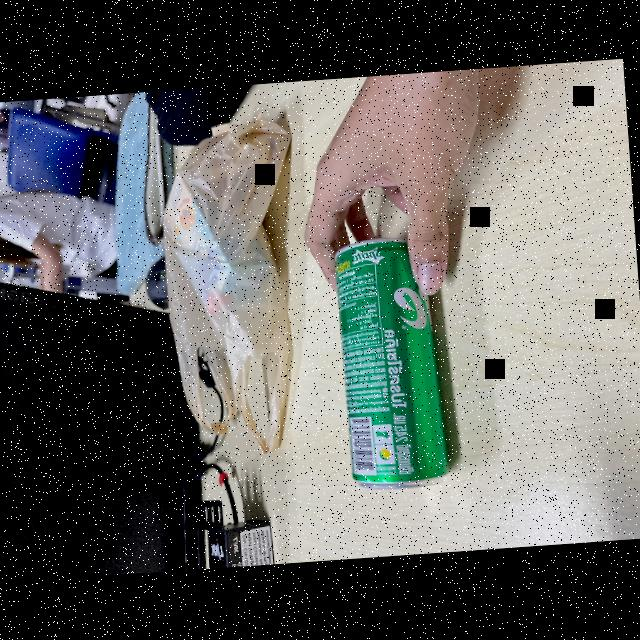can: (322, 220, 459, 508)
